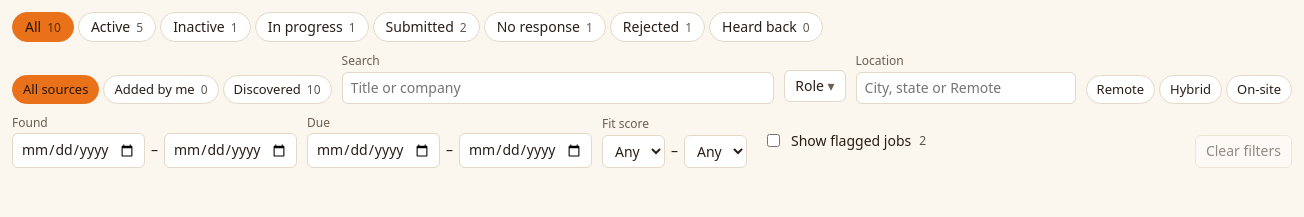
Filters › work mode toggles write work_mode
The image size is (1304, 217).
Click the button "Remote" at {"x": 1120, "y": 90}, box [1086,75,1155,104]
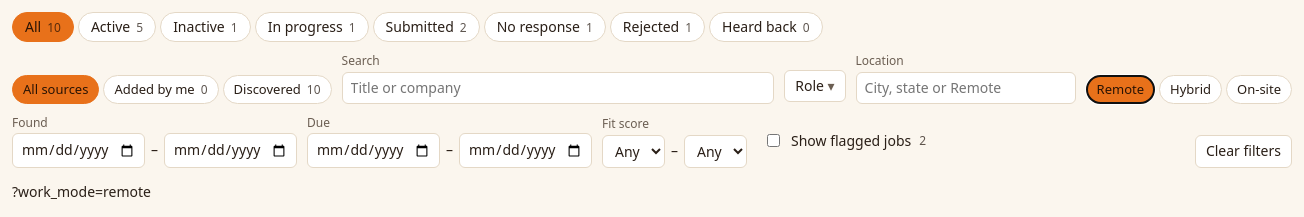
Click the button "On-site" at {"x": 1259, "y": 90}, box [1226,75,1292,104]
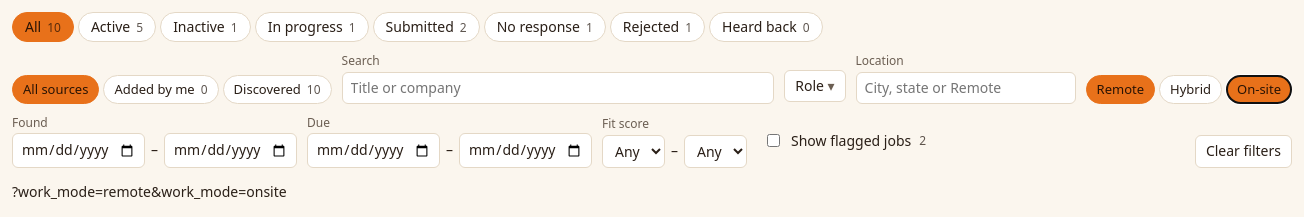
Now the text with test id "search" reads "?work_mode=remote&work_mode=onsite", box [12,182,287,201]
